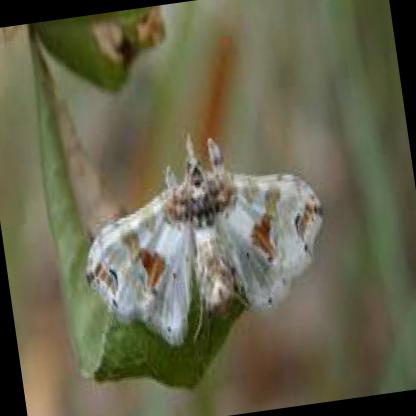leucinodes: (87, 137, 326, 343)
